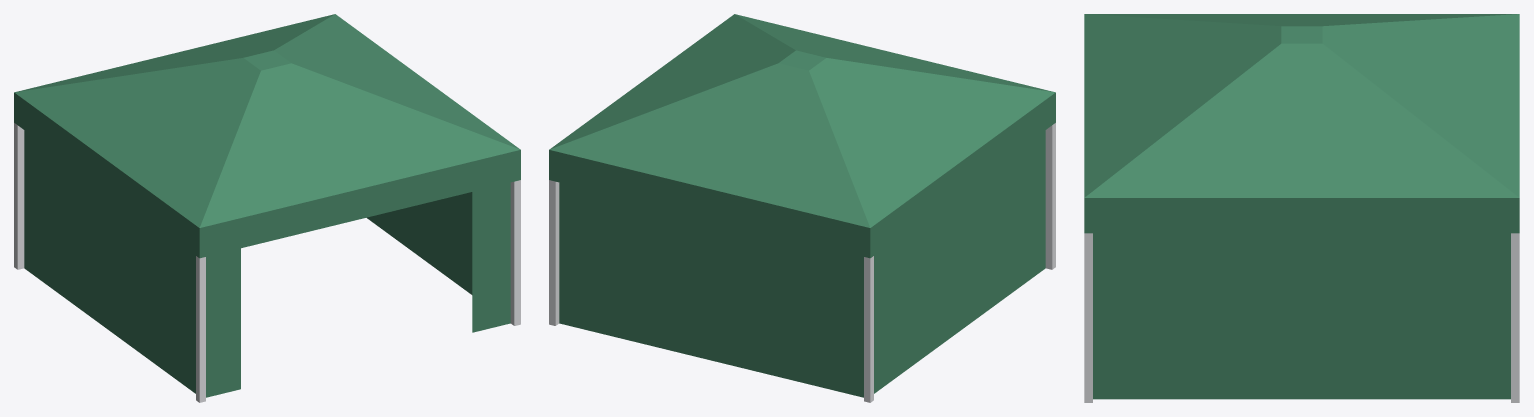
File: tentClosed.glb
3 renders of one model, left to right at view 1: azimuth 30°, elevation 25°; view 2: azimuth 150°, elevation 25°; view 3: azimuth 270°, elevation 25°, orthographic. The views are drawn at different scales.
Parts seen in each view (by area): view 1: tentClosed(Clone); view 2: tentClosed(Clone); view 3: tentClosed(Clone).
Part boxes in pixels (x1,y1,x2,y2): tentClosed(Clone): (14,14,520,402); tentClosed(Clone): (549,14,1055,402); tentClosed(Clone): (1084,14,1519,402).
Bounding box in the file's own units: 1 × 0.7 × 1.
